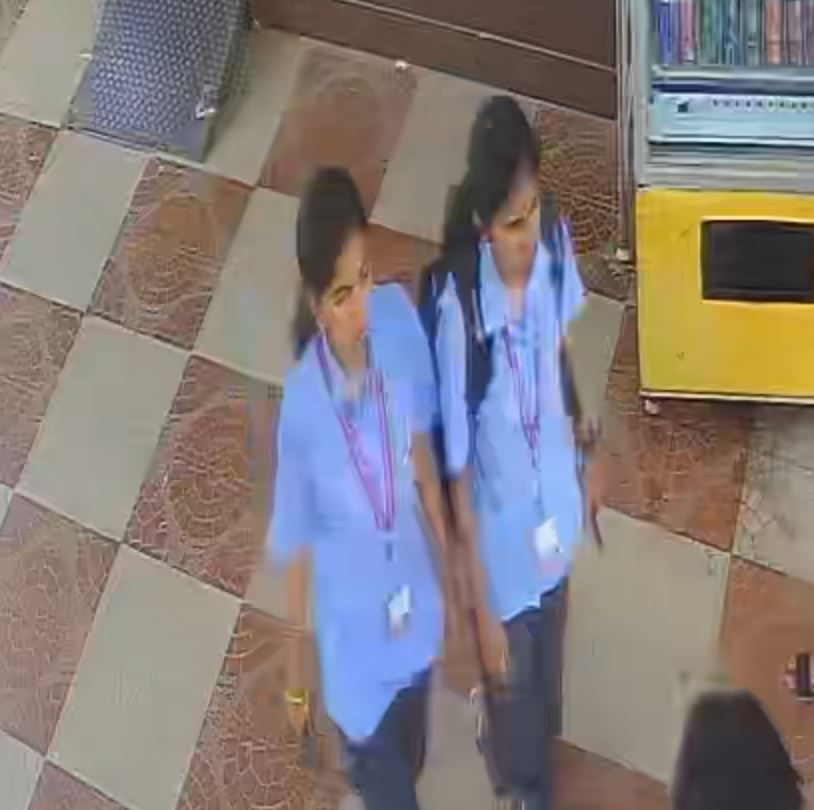intruder: (257, 166, 458, 810), (426, 81, 602, 810)
